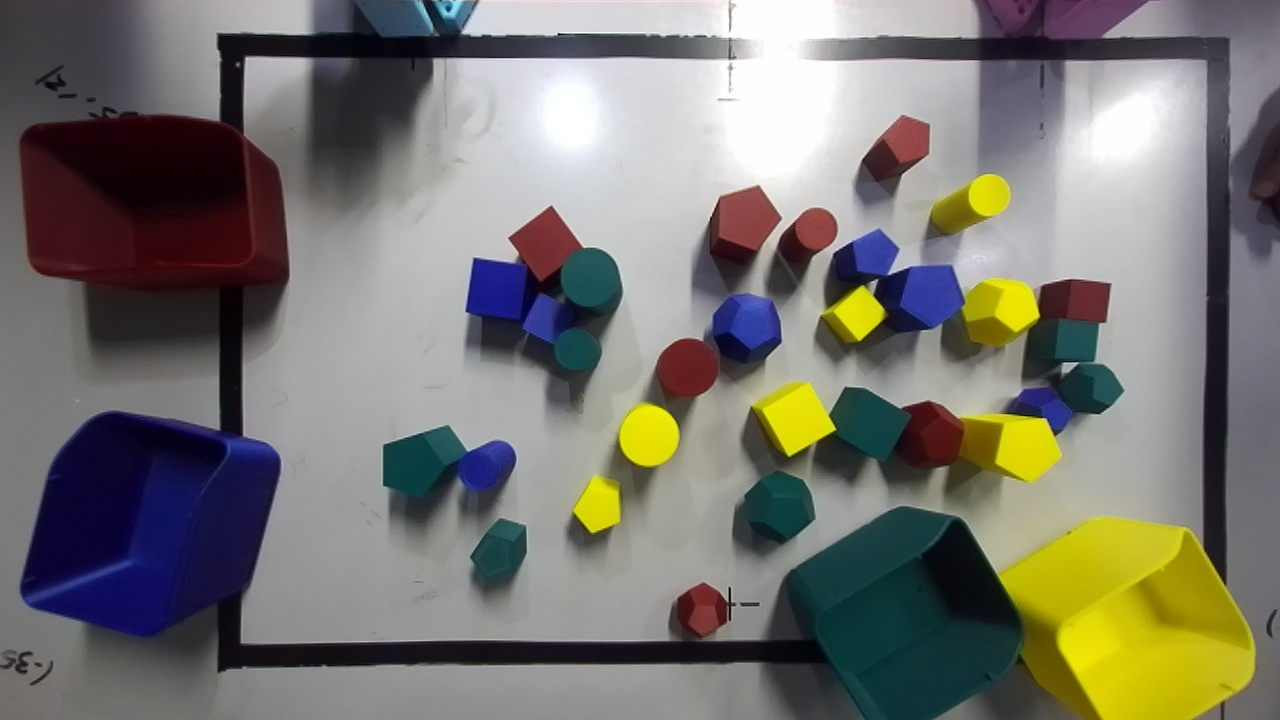bin: (20, 412, 279, 635), (1001, 517, 1253, 719), (787, 507, 1022, 719), (20, 116, 288, 289)
cube: (751, 382, 834, 456), (829, 387, 909, 461), (508, 206, 581, 281), (465, 258, 534, 321), (821, 285, 885, 342), (1025, 319, 1098, 362), (1039, 279, 1110, 322), (522, 293, 574, 342)
cylinder: (930, 174, 1009, 233), (560, 248, 622, 312), (618, 403, 678, 466), (656, 338, 717, 396), (778, 207, 837, 261), (457, 440, 516, 490), (553, 327, 601, 371)
dodecahedron: (961, 278, 1039, 345), (744, 471, 814, 542), (711, 293, 781, 362), (895, 401, 963, 468), (1055, 363, 1123, 413), (1002, 387, 1072, 433), (676, 582, 727, 636)
hexagonal: (959, 414, 1061, 481), (382, 425, 466, 496), (874, 265, 964, 331), (710, 186, 780, 263), (862, 115, 929, 181), (832, 229, 898, 283), (470, 519, 526, 578), (573, 476, 620, 533)
